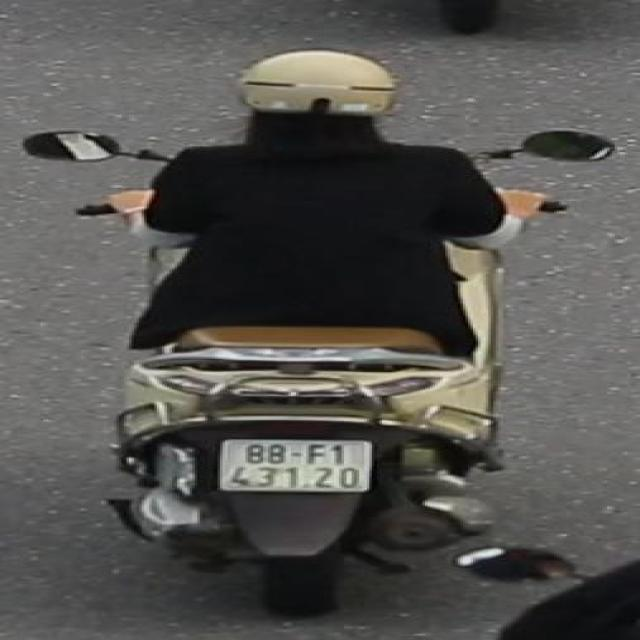LP: (214, 435, 378, 496)
helmet: (225, 41, 412, 159)
